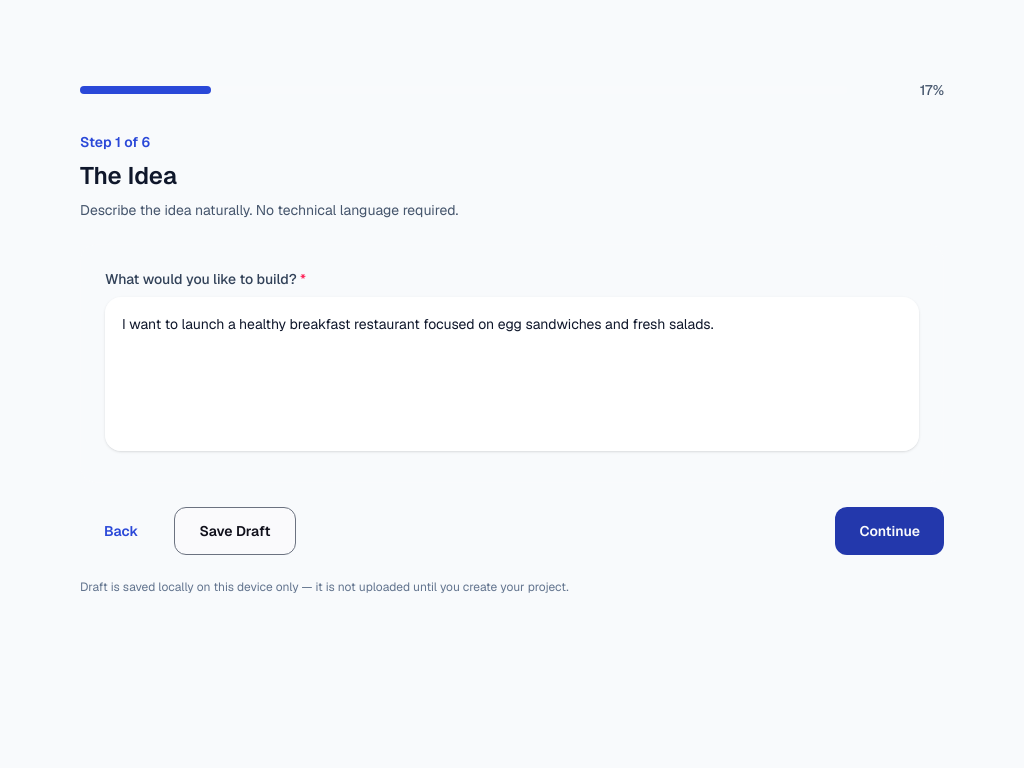
Test: CreateProjectWizard create-succeeded/start-failed recovery › shows the recovery panel when start fails with a 503
This screenshot has width=1024, height=768.
What coordinates should you click on to do the following:
click the button "Continue"
I would click on:
 (890, 531)
Its box is [835,507,944,555].
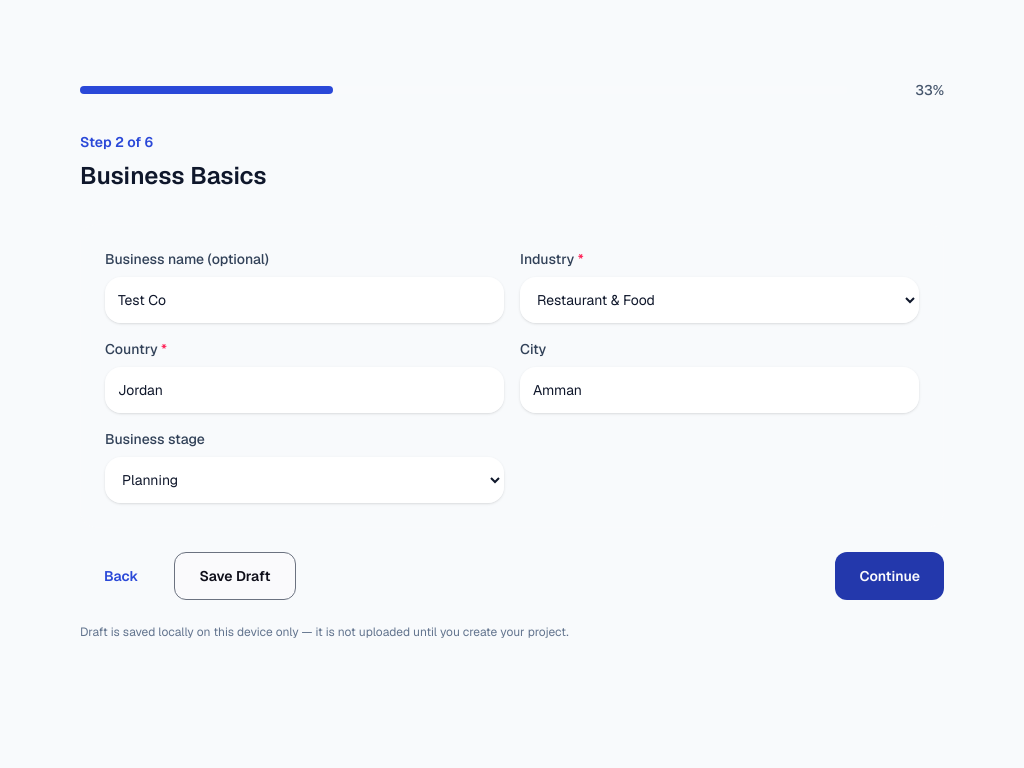
What coordinates should you click on to do the following:
click the button "Continue"
I would click on:
 (890, 576)
Its box is [835,552,944,600].
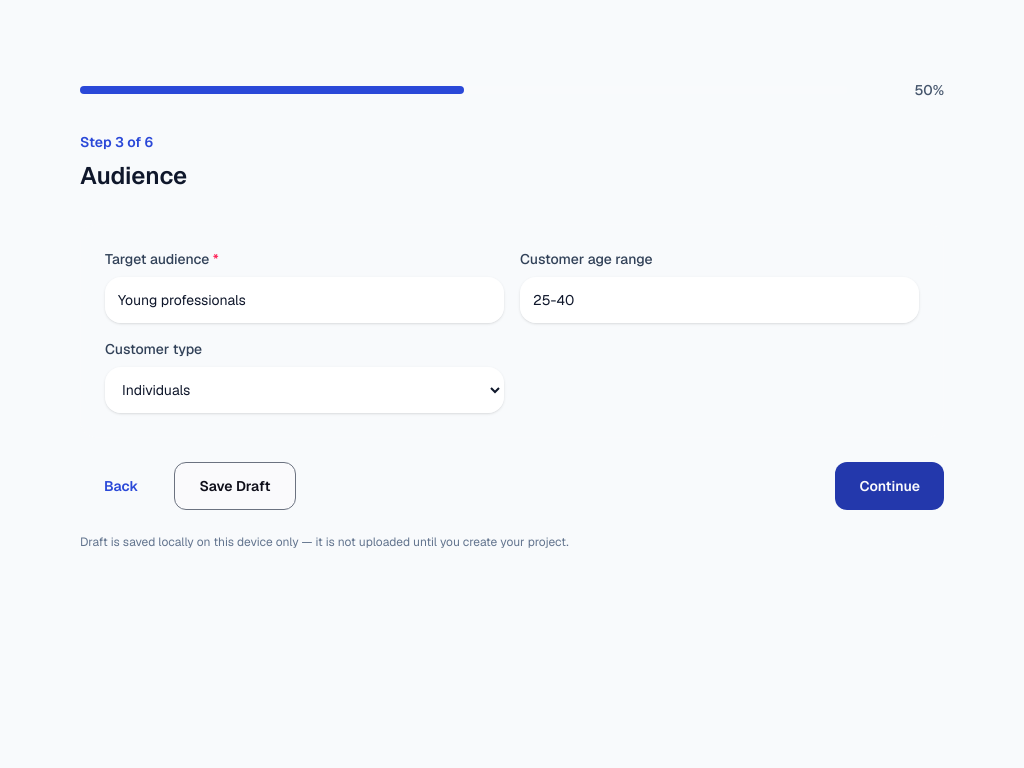
What coordinates should you click on to do the following:
click the button "Continue"
I would click on:
 (890, 486)
Its box is [835,462,944,510].
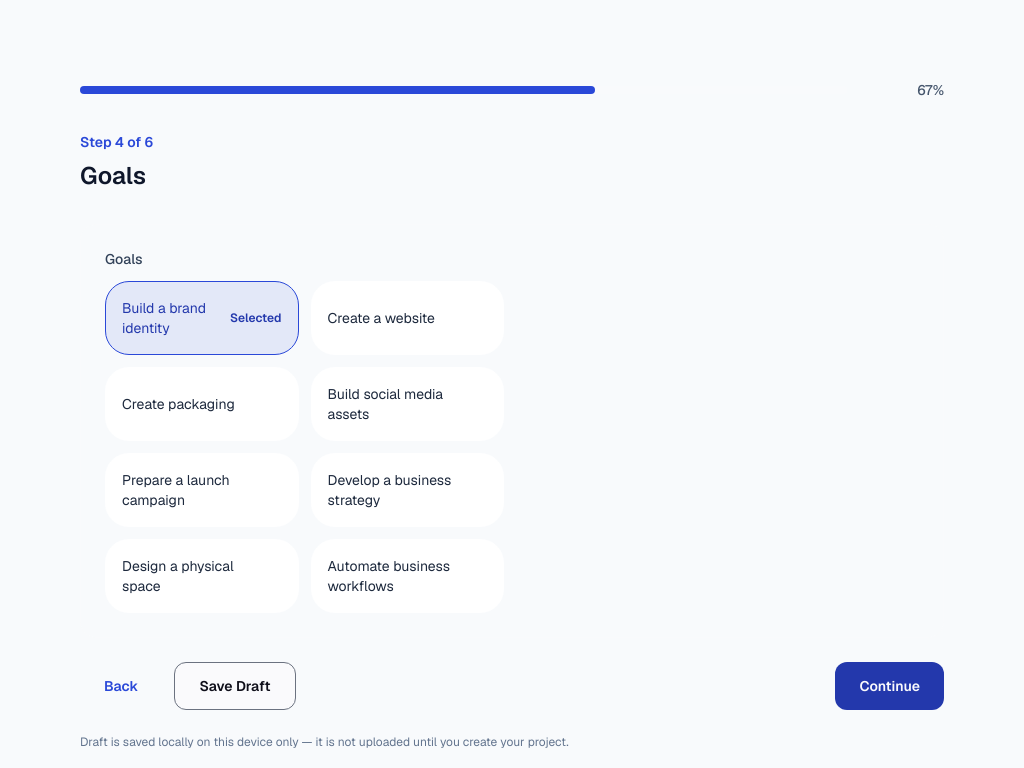
What coordinates should you click on to do the following:
click the button "Continue"
I would click on:
 (890, 686)
Its box is [835,662,944,710].
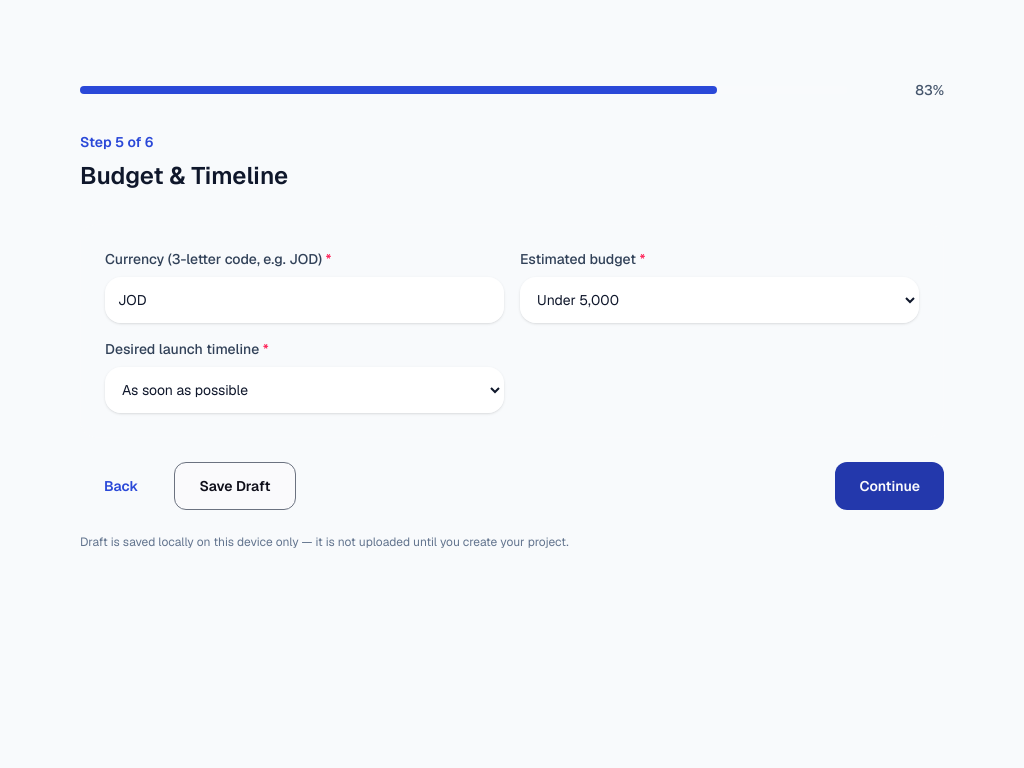
What coordinates should you click on to do the following:
click the button "Continue"
I would click on:
 (890, 486)
Its box is [835,462,944,510].
(page scrolled)
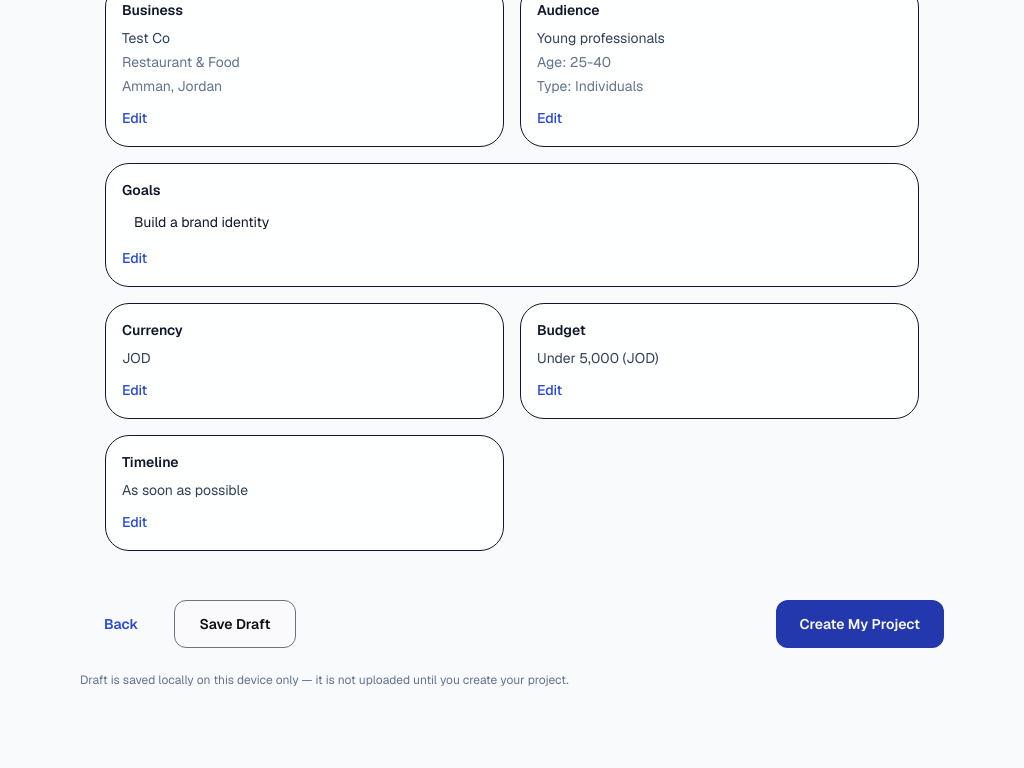
What coordinates should you click on to do the following:
click the button "Create My Project"
I would click on:
 (860, 624)
Its box is [776,600,944,648].
(page scrolled)
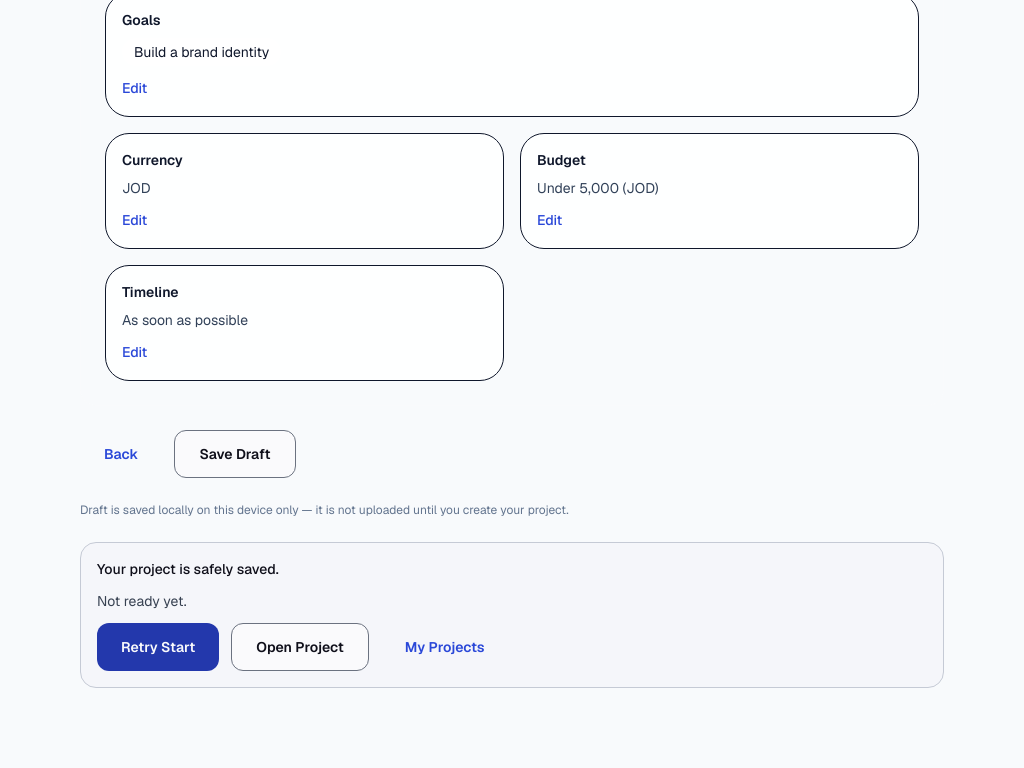
Now the text "Your project is safely saved." is shown, box [97,560,279,578]
Now the text "Not ready yet." is shown, box [97,592,187,610]
Now the button "Create My Project" is gone
